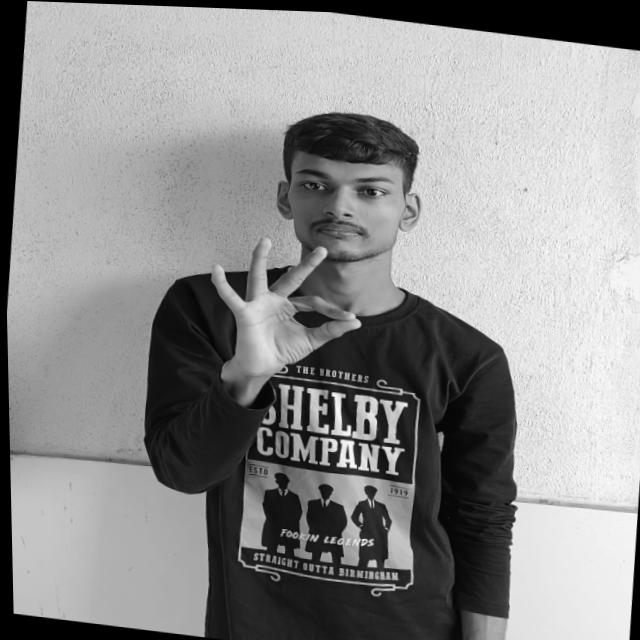Superb: (186, 220, 386, 376)
